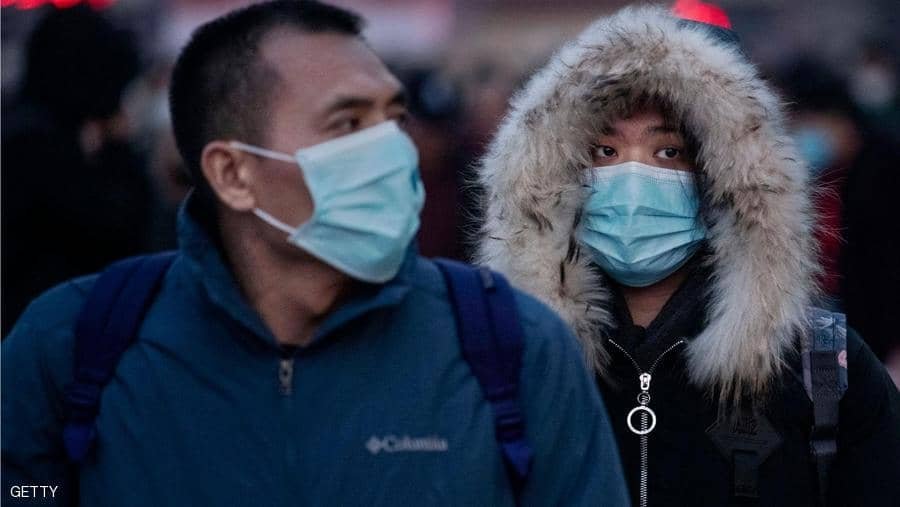surgical: (245, 124, 429, 284), (563, 158, 708, 292)
